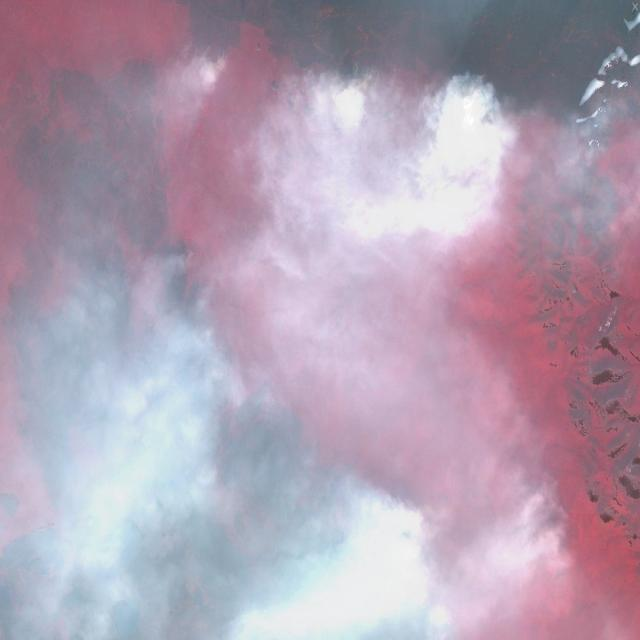fire: (183, 33, 549, 170), (326, 447, 462, 640)
